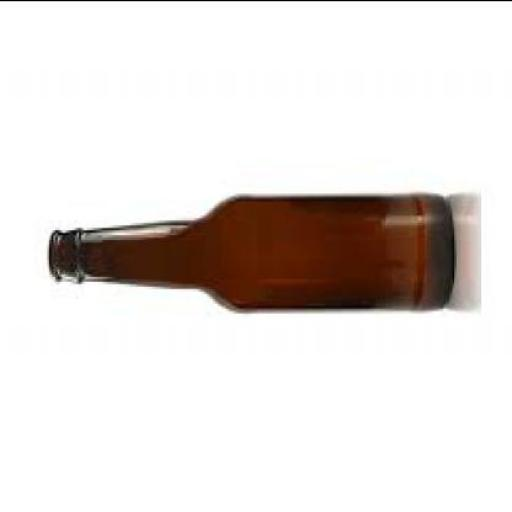glass: (45, 192, 452, 314)
